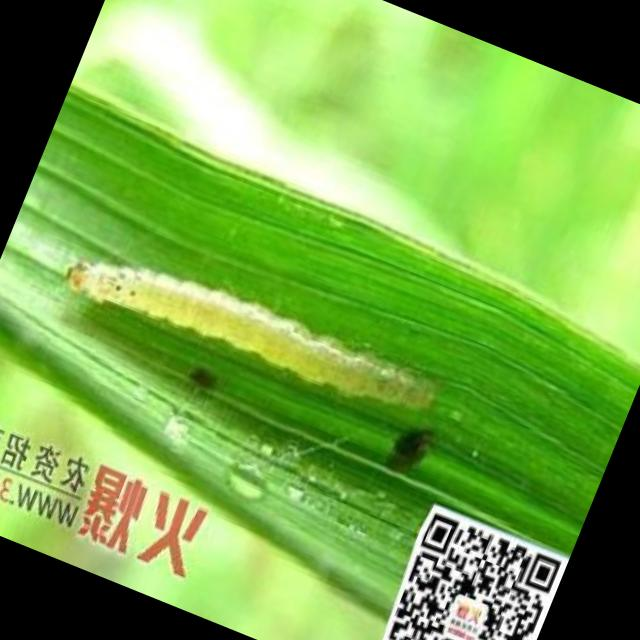leaf-folder: (42, 182, 472, 477)
